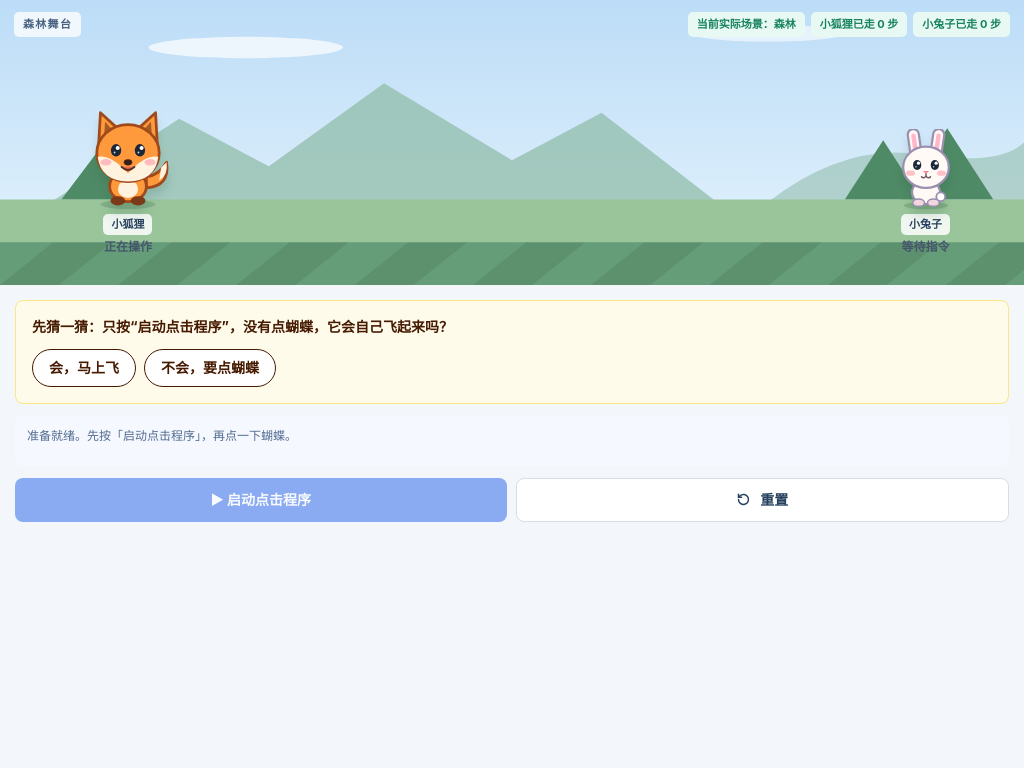
Scenario: PlayableStage observable feedback (UX-204) › click untriggered: arming shows await-click and never counts as success
# The run button stays disabled until the click prediction is made.
Click the button with test id "garden-predict-click" at {"x": 210, "y": 368}, box left=144, top=349, right=276, bottom=387
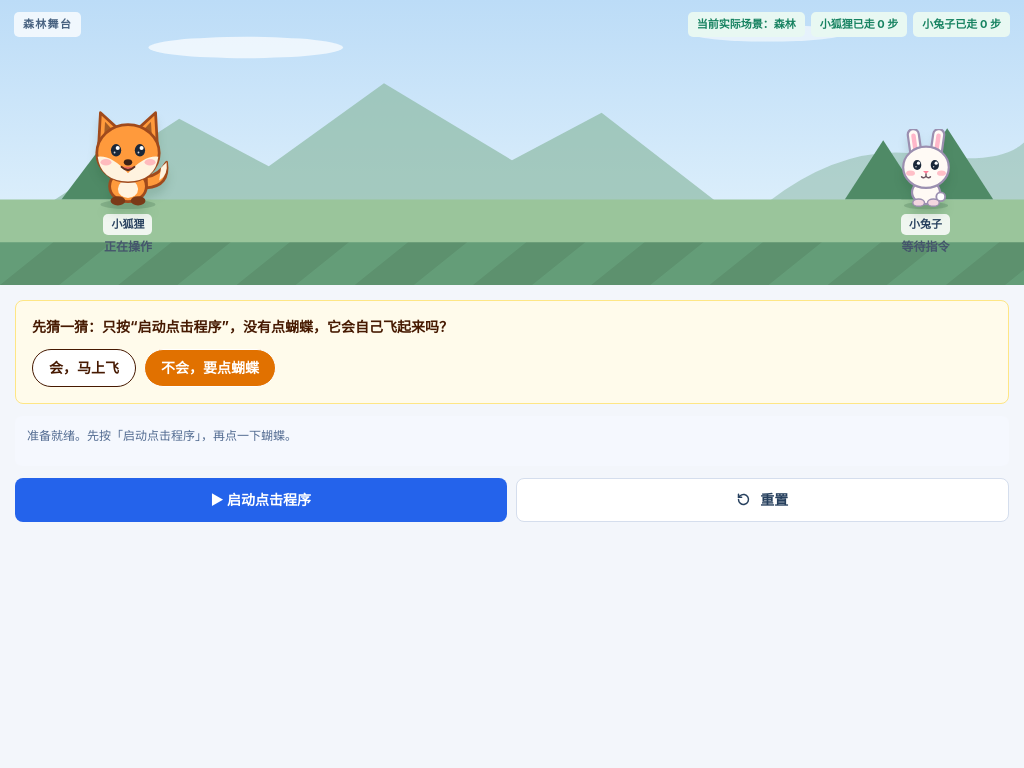
Click the button with test id "run-code-button" at {"x": 261, "y": 500}, box left=15, top=478, right=506, bottom=522
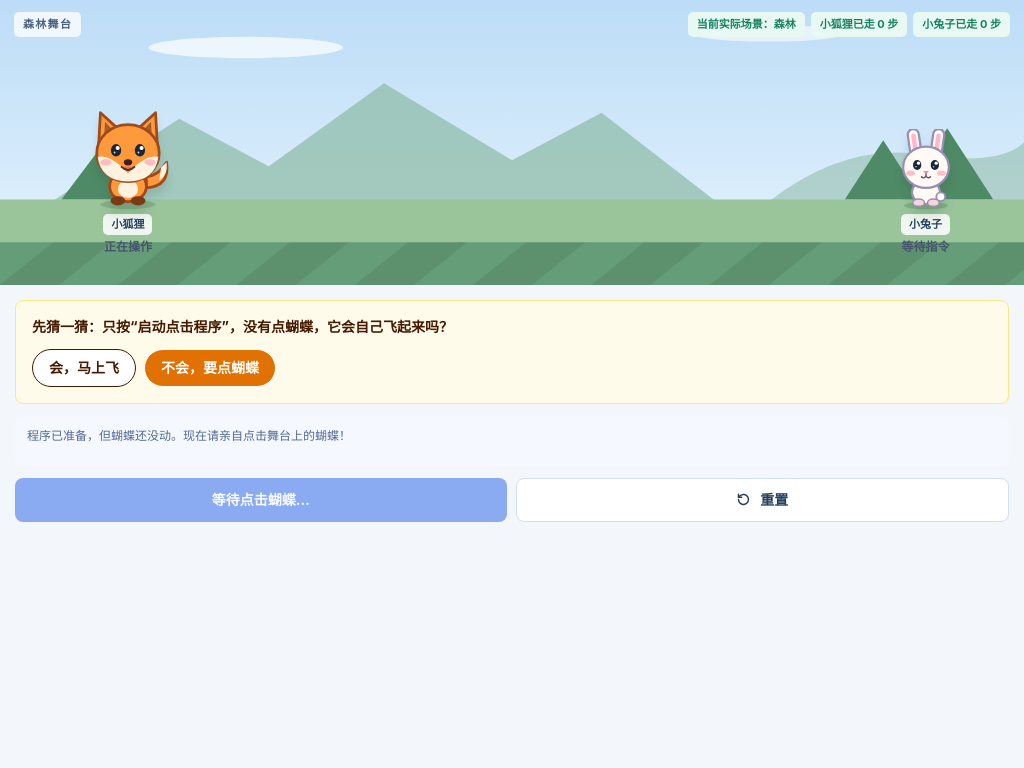
Expected: the text "程序已准备，但蝴蝶还没动。现在请亲自点击舞台上的蝴蝶！" is shown, left=15, top=416, right=1009, bottom=466
Expected: the button with test id "run-code-button" reads "等待点击蝴蝶…", left=15, top=478, right=506, bottom=522
